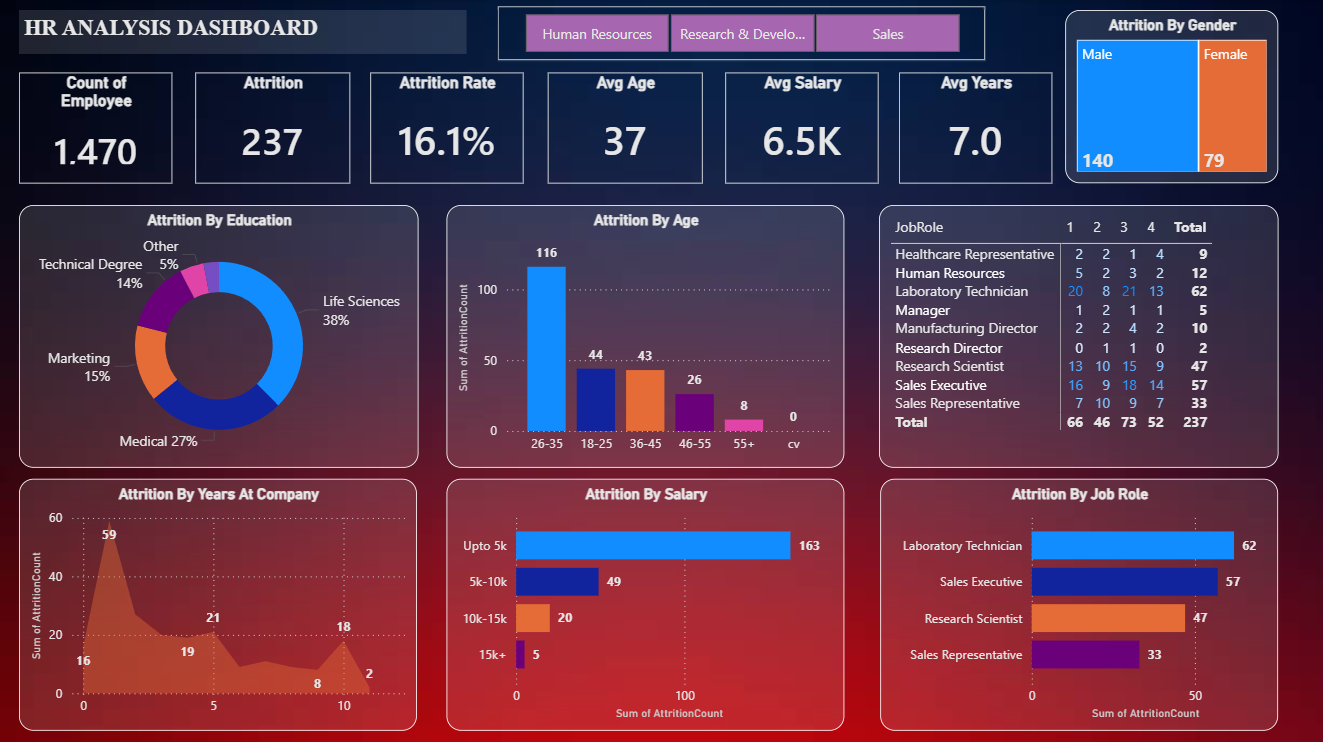

Layout of this report page (visuals, bound fields, positions):
{"tool":"powerbi","page":{"name":"Page 1","canvas":[1280,720],"ordinal":0},"visuals":[{"type":"cardVisual","title":"Count of Employee","fields":{"Data":["CountNonNull(HR_Analytics.EmpID)"]},"box":[19.2,70.3,148.2,107],"z":0},{"type":"cardVisual","title":"Attrition Rate","fields":{"Data":["HR_Analytics.AttritionRate"]},"box":[358.1,70.3,148.2,107],"z":1000},{"type":"cardVisual","title":"Avg Age","fields":{"Data":["Avg(HR_Analytics.Age)"]},"box":[529.7,70.3,149.6,107],"z":2000},{"type":"cardVisual","title":"Attrition","fields":{"Data":["Sum(HR_Analytics.AttritionCount)"]},"box":[189.4,70.3,149.6,107],"z":3000},{"type":"cardVisual","title":"Avg Salary","fields":{"Data":["Avg(HR_Analytics.MonthlyIncome)"]},"box":[701.2,70.3,148.2,107],"z":4000},{"type":"cardVisual","title":"Avg Years","fields":{"Data":["Avg(HR_Analytics.YearsAtCompany)"]},"box":[868.6,70.3,148.2,107],"z":5000},{"type":"donutChart","title":"Attrition By Education","fields":{"Y":["Sum(HR_Analytics.AttritionCount)"],"Category":["HR_Analytics.EducationField"]},"box":[19.2,197.6,385.6,253.9],"z":6000},{"type":"columnChart","title":"Attrition By Age","fields":{"Category":["HR_Analytics.AgeGroup"],"Y":["Sum(HR_Analytics.AttritionCount)"]},"box":[432.2,197.6,384.2,253.9],"z":7000},{"type":"textbox","box":[19.2,9.6,432.2,42.5],"z":7002},{"type":"pivotTable","fields":{"Rows":["HR_Analytics.JobRole"],"Columns":["HR_Analytics.JobSatisfaction"],"Values":["Sum(HR_Analytics.AttritionCount)"]},"box":[849.4,197.6,385.6,253.9],"z":7003},{"type":"barChart","title":"Attrition By Salary","fields":{"Category":["HR_Analytics.SalarySlab"],"Y":["Sum(HR_Analytics.AttritionCount)"]},"box":[432.2,462.4,384.2,242.9],"z":7004},{"type":"barChart","title":"Attrition By Job Role","fields":{"Category":["HR_Analytics.JobRole"],"Y":["Sum(HR_Analytics.AttritionCount)"]},"box":[850.8,462.4,384.2,242.9],"z":7005},{"type":"areaChart","title":"Attrition By Years At Company","fields":{"Category":["HR_Analytics.YearsAtCompany"],"Y":["Sum(HR_Analytics.AttritionCount)"]},"box":[19.2,462.4,384.2,242.9],"z":7006},{"type":"treemap","title":"Attrition By Gender","fields":{"Group":["HR_Analytics.Gender"],"Values":["Sum(HR_Analytics.AttritionCount)"]},"box":[1029.2,9.6,205.8,167.4],"z":7007},{"type":"slicer","fields":{"Values":["HR_Analytics.Department"]},"box":[481.6,5.5,470.7,52.1],"z":7008}]}

Visuals, with their boxes in screenshot pixels (x1, y1, x2, y2), scaled from the page's 1280x720 canvas onto the 1323x742 screenshot:
"Count of Employee" cardVisual: {"left": 20, "top": 72, "right": 173, "bottom": 183}
"Attrition Rate" cardVisual: {"left": 370, "top": 72, "right": 523, "bottom": 183}
"Avg Age" cardVisual: {"left": 547, "top": 72, "right": 702, "bottom": 183}
"Attrition" cardVisual: {"left": 196, "top": 72, "right": 350, "bottom": 183}
"Avg Salary" cardVisual: {"left": 725, "top": 72, "right": 878, "bottom": 183}
"Avg Years" cardVisual: {"left": 898, "top": 72, "right": 1051, "bottom": 183}
"Attrition By Education" donutChart: {"left": 20, "top": 204, "right": 418, "bottom": 465}
"Attrition By Age" columnChart: {"left": 447, "top": 204, "right": 844, "bottom": 465}
textbox: {"left": 20, "top": 10, "right": 467, "bottom": 54}
pivotTable - HR_Analytics.JobRole x HR_Analytics.JobSatisfaction: {"left": 878, "top": 204, "right": 1276, "bottom": 465}
"Attrition By Salary" barChart: {"left": 447, "top": 477, "right": 844, "bottom": 727}
"Attrition By Job Role" barChart: {"left": 879, "top": 477, "right": 1276, "bottom": 727}
"Attrition By Years At Company" areaChart: {"left": 20, "top": 477, "right": 417, "bottom": 727}
"Attrition By Gender" treemap: {"left": 1064, "top": 10, "right": 1276, "bottom": 182}
slicer - HR_Analytics.Department: {"left": 498, "top": 6, "right": 984, "bottom": 59}
